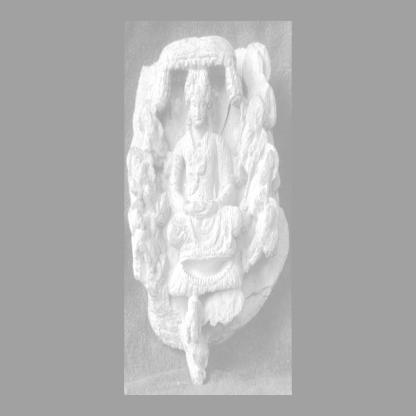buddha-sitting: (165, 68, 242, 297)
